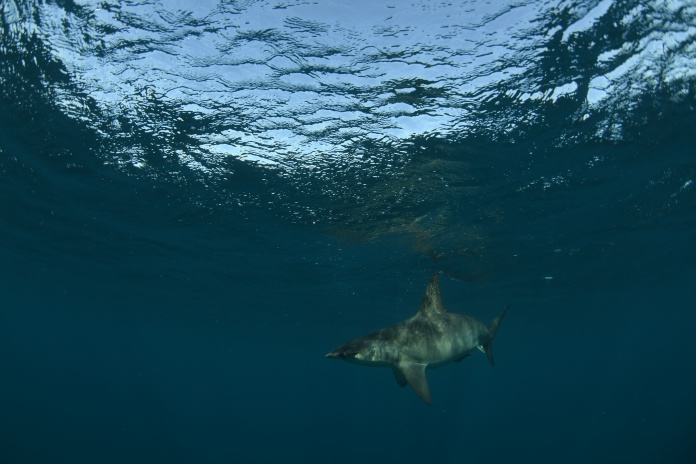Hammer: (250, 251, 567, 419)
